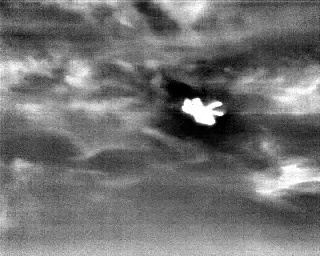HELICOPTER: (179, 91, 227, 131)
